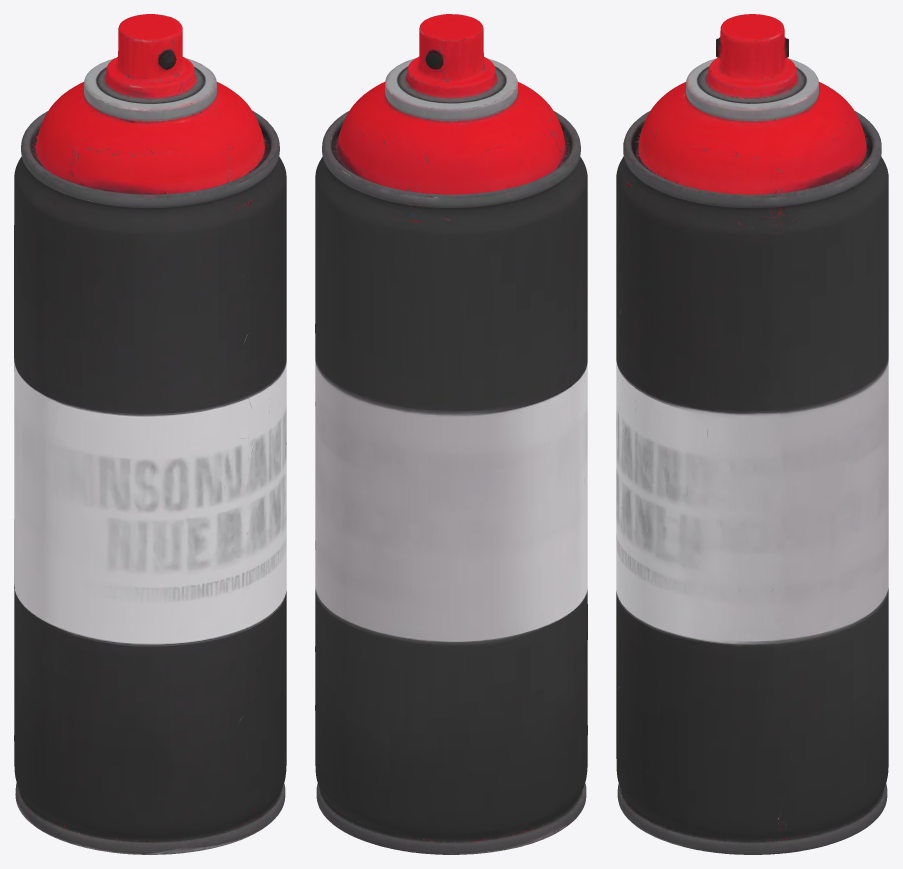
Rendered from spray-can.glb.
3 views of the same model, side by side, from view 1: azimuth 30°, elevation 25°; view 2: azimuth 150°, elevation 25°; view 3: azimuth 270°, elevation 25° (orthographic).
Visible parts, largest first — view 1: Mesh_0; view 2: Mesh_0; view 3: Mesh_0.
Boxes of the visible parts, <box> form: Mesh_0: <box>14,14,286,854</box>; Mesh_0: <box>315,14,587,854</box>; Mesh_0: <box>616,14,888,854</box>.
Size of the model in its own units: 0.6113 by 1.91 by 0.6113.
1 material, 1 textured.
